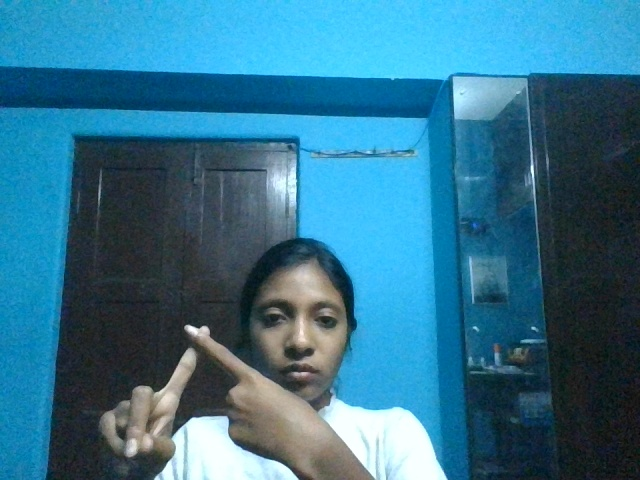E: (84, 324, 312, 480)
